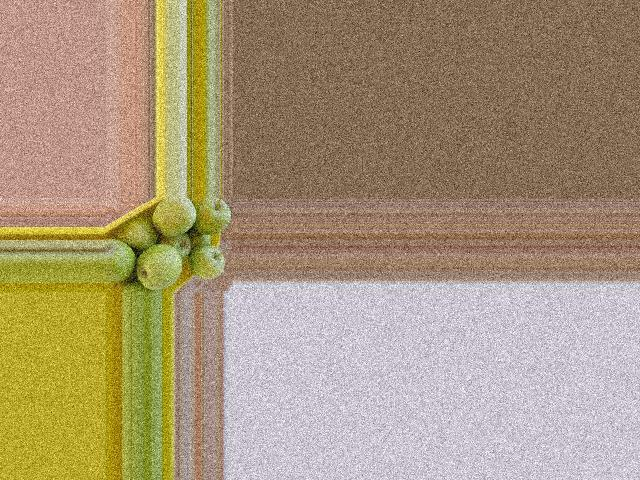apple: (115, 210, 156, 251)
